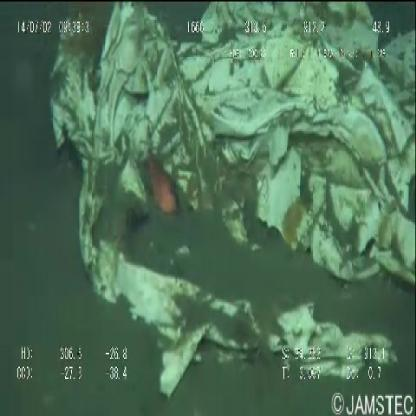Rác: (40, 9, 416, 399)
